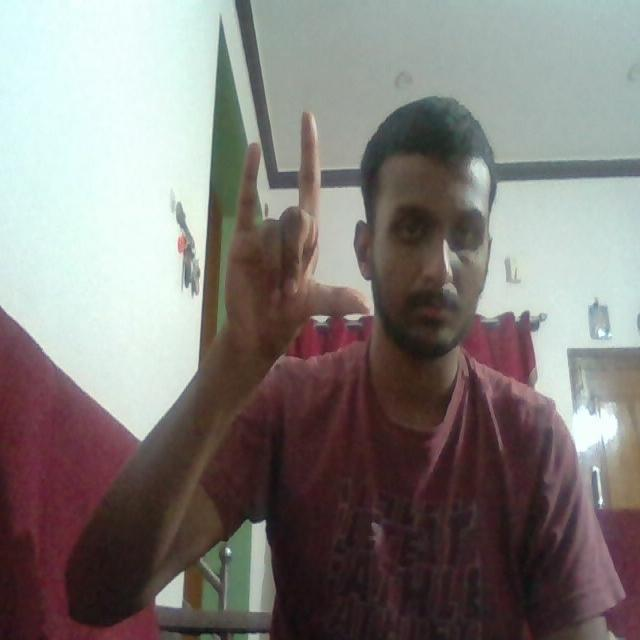iloveyou: (209, 94, 372, 347)
